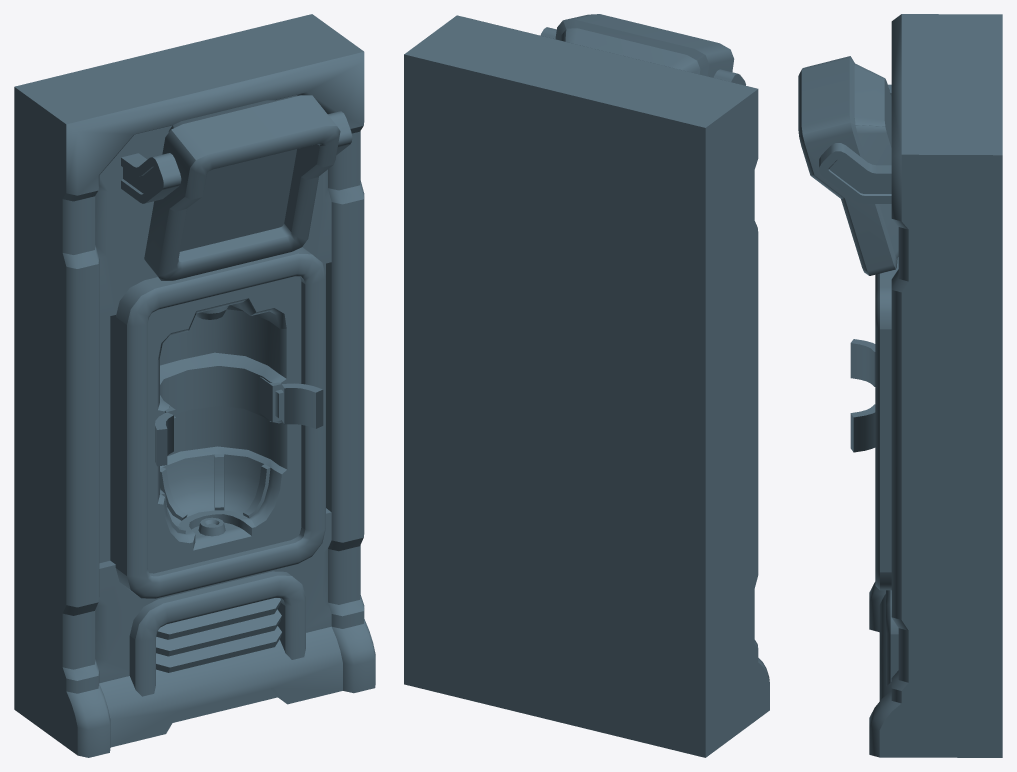
The model's file is obj_survivalobject_powercoresocket.fbx.
The picture shows the model from 3 angles, left to right: view 1: azimuth 30°, elevation 25°; view 2: azimuth 150°, elevation 25°; view 3: azimuth 270°, elevation 25°; orthographic projection. The views are drawn at different scales.
Visible parts, largest first — view 1: obj_survivalobject_powercoresocket_pose01; view 2: obj_survivalobject_powercoresocket_pose01; view 3: obj_survivalobject_powercoresocket_pose01.
Part boxes in pixels (x1,y1,x2,y2): obj_survivalobject_powercoresocket_pose01: (14,14,375,757); obj_survivalobject_powercoresocket_pose01: (404,14,769,757); obj_survivalobject_powercoresocket_pose01: (798,14,1002,757).
Bounding box in the file's own units: 6 × 11.99 × 3.68.
